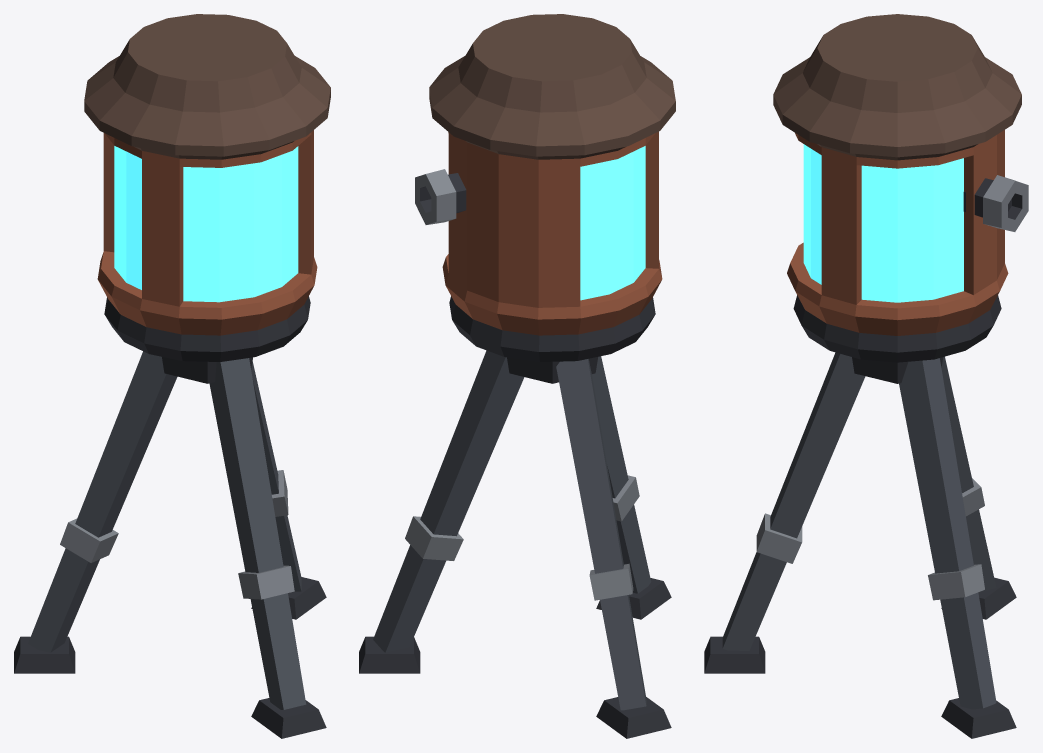
The model's file is landing-beacon-389372.glb.
The picture shows the model from 3 angles, left to right: view 1: azimuth 30°, elevation 25°; view 2: azimuth 150°, elevation 25°; view 3: azimuth 270°, elevation 25°; orthographic projection.
Parts seen in each view (by area): view 1: lamp-shell, tripod, lamp-lens; view 2: lamp-shell, tripod, lamp-lens, connector-mesh; view 3: lamp-shell, tripod, lamp-lens, connector-mesh.
Part boxes in pixels (x1,y1,x2,y2): lamp-shell: (84, 14, 330, 335); tripod: (14, 296, 326, 738); lamp-lens: (114, 146, 298, 302); lamp-shell: (429, 14, 675, 335); tripod: (359, 296, 671, 738); lamp-lens: (580, 146, 645, 300); connector-mesh: (415, 169, 466, 224); lamp-shell: (773, 14, 1021, 335); tripod: (704, 295, 1016, 738); lamp-lens: (803, 144, 963, 302); connector-mesh: (963, 175, 1028, 231).
Bounding box in the file's own units: 0.6384 × 1.2 × 0.5739.
